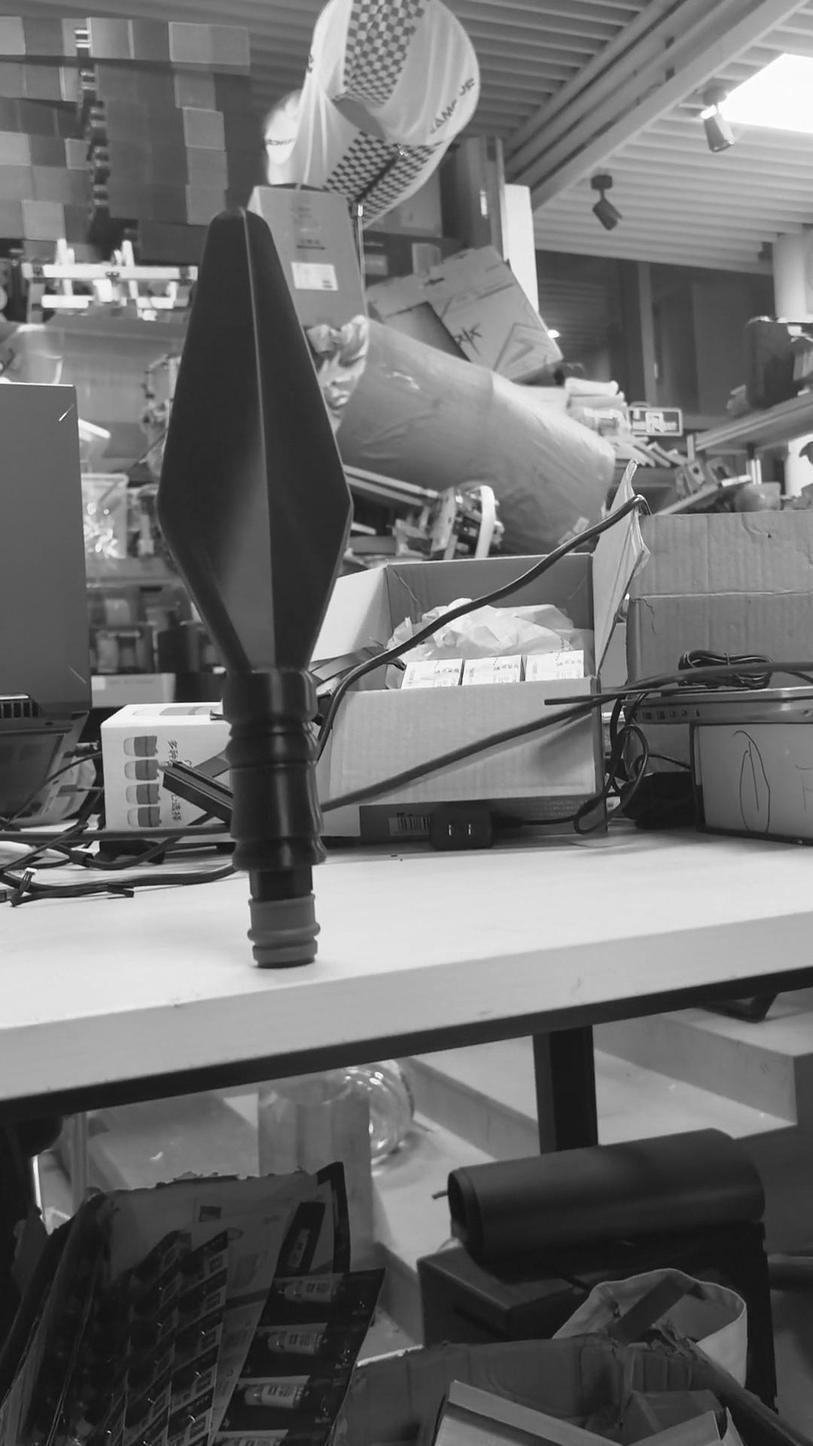base: (248, 894, 319, 963)
